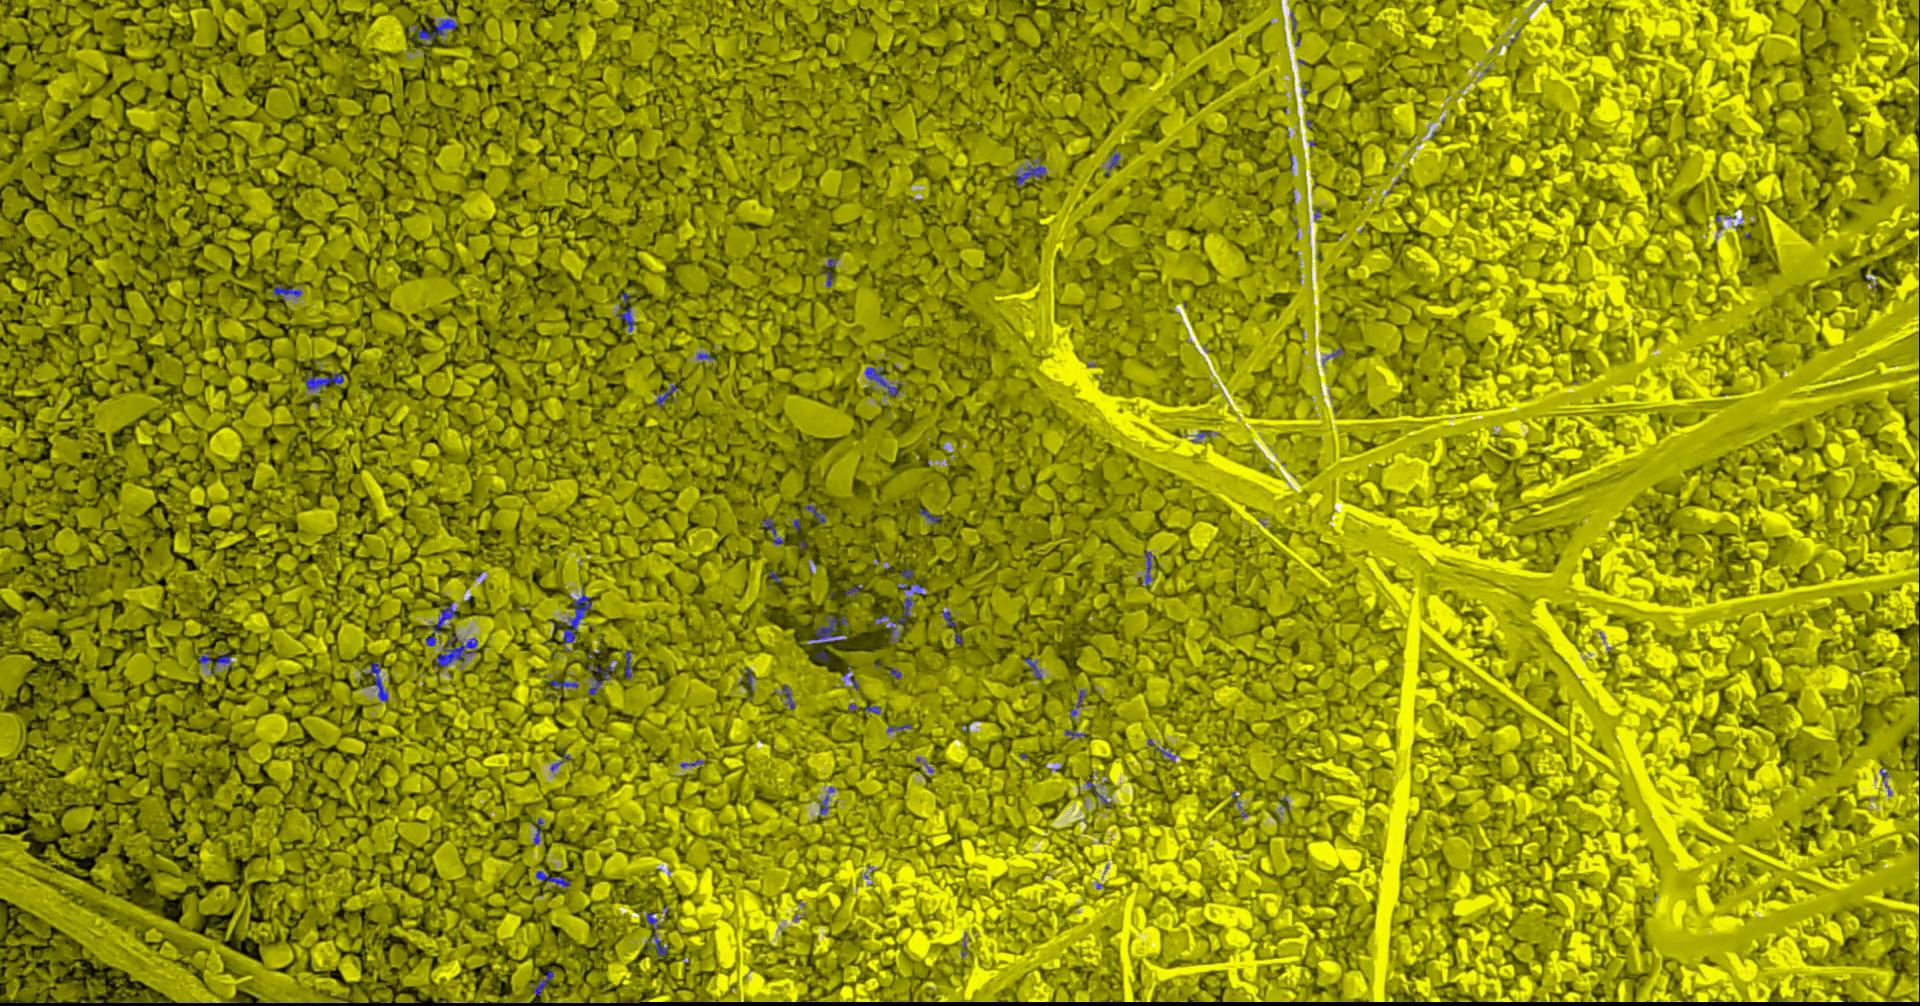ant: (550, 589, 590, 652), (436, 633, 477, 666), (411, 9, 456, 39), (425, 605, 455, 647), (808, 615, 847, 644), (645, 911, 668, 956), (863, 367, 898, 396), (886, 597, 910, 633), (303, 371, 343, 391), (367, 662, 387, 701), (1015, 161, 1045, 185), (1147, 738, 1175, 761), (535, 870, 571, 887), (1086, 780, 1109, 805), (762, 517, 783, 544), (198, 652, 232, 668), (533, 969, 552, 995), (655, 384, 677, 405), (587, 663, 615, 680), (616, 306, 634, 332), (822, 255, 836, 286), (1070, 688, 1086, 716), (803, 506, 825, 523), (1023, 657, 1041, 680), (272, 286, 301, 298), (1103, 152, 1119, 175), (919, 508, 941, 523), (898, 582, 923, 594), (781, 685, 794, 709), (532, 817, 543, 843), (549, 680, 577, 690), (587, 680, 602, 695), (942, 610, 955, 627), (623, 650, 631, 680), (1144, 550, 1150, 584), (818, 795, 828, 815), (886, 723, 910, 730)
